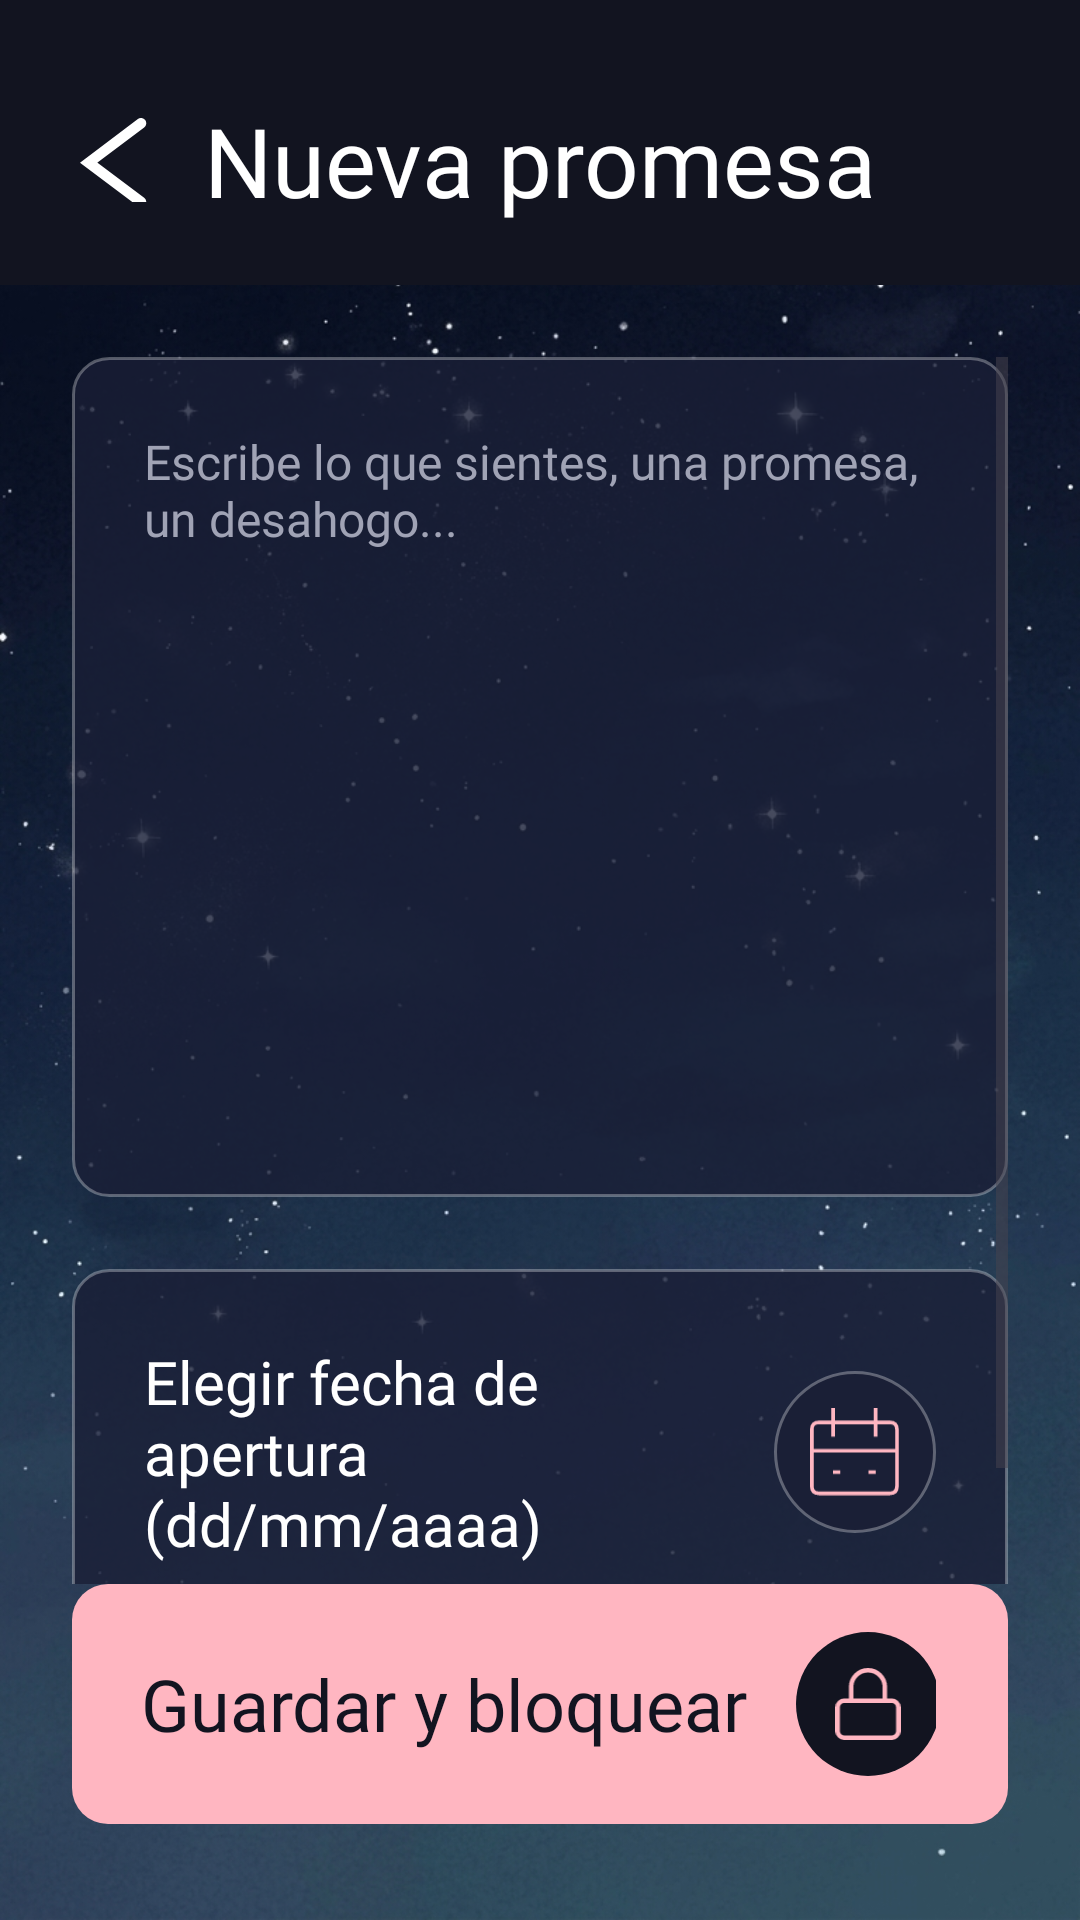

Point at icon controls on the screen. Image size 1080w x 1920h, points as point (x, y).
Abrir el calendario para elegir fecha: point (855, 1452)
flecha: point (113, 160)
Icono de candado que indica si la promesa está bloqueada: point (866, 1704)
